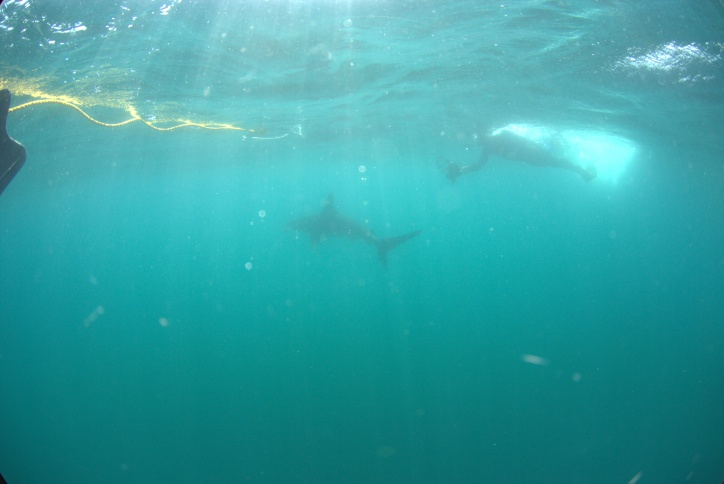Hammer: (281, 145, 637, 339)
